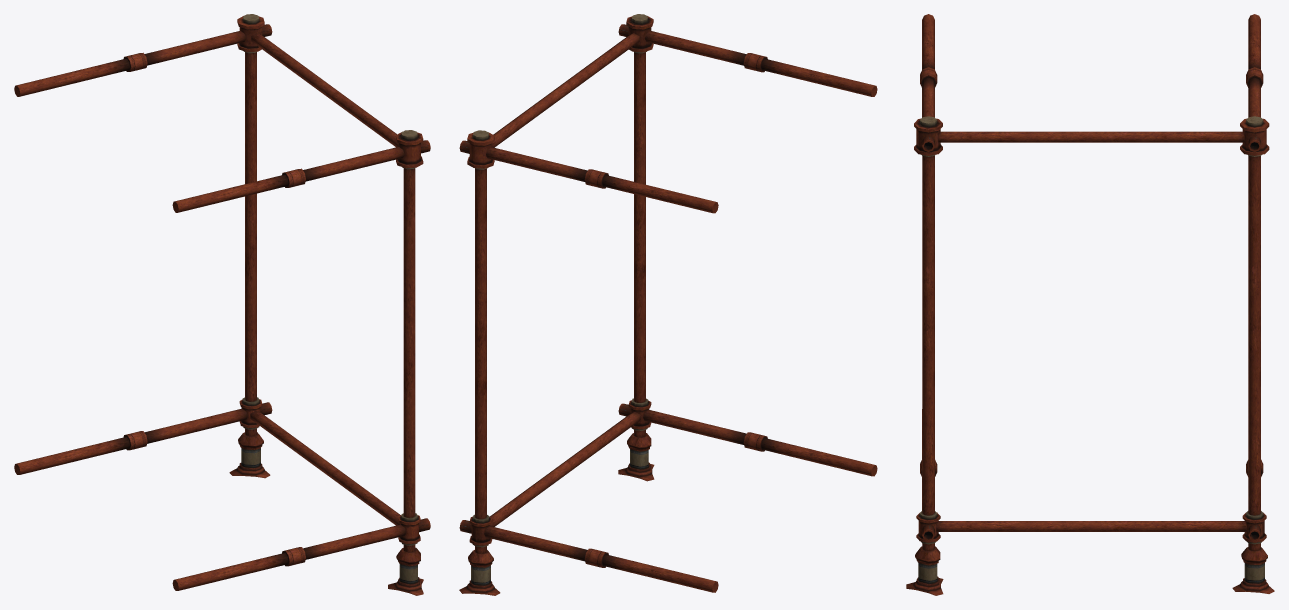
Rendered from scaffold_terminal.dae.
3 views of the same model, side by side, from view 1: azimuth 30°, elevation 25°; view 2: azimuth 150°, elevation 25°; view 3: azimuth 270°, elevation 25° (orthographic). The views are drawn at different scales.
Visible parts, largest first — view 1: polySurface15; view 2: polySurface15; view 3: polySurface15.
Boxes of the visible parts, left/top/right/bottom form: polySurface15: left=14, top=14, right=430, bottom=595; polySurface15: left=459, top=14, right=877, bottom=595; polySurface15: left=906, top=14, right=1274, bottom=595.
Bounding box in the file's own units: 2.3 × 3.95 × 2.82.
